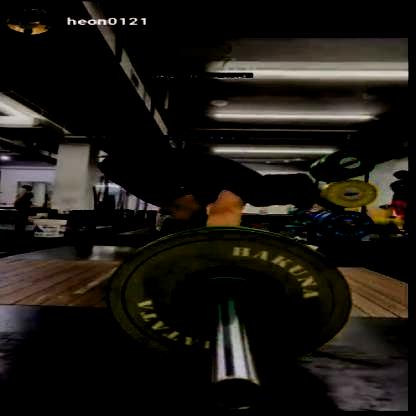Barbell: (206, 375, 269, 412)
